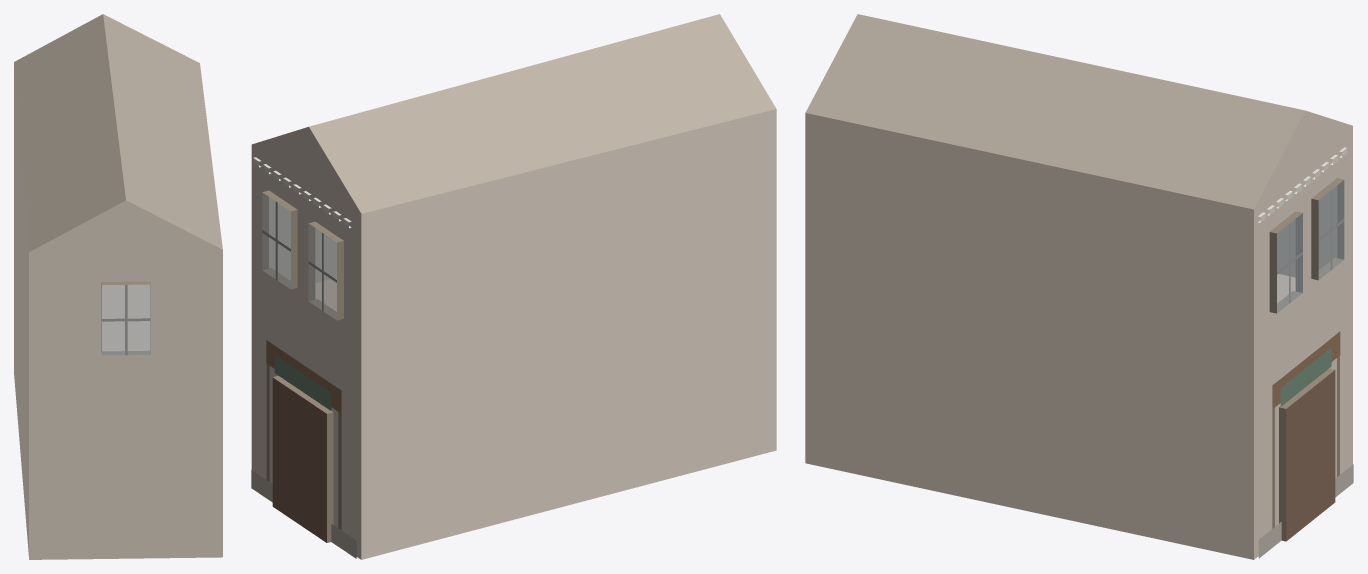
3 renders of one model, left to right at view 1: azimuth 30°, elevation 25°; view 2: azimuth 150°, elevation 25°; view 3: azimuth 270°, elevation 25°, orthographic. The views are drawn at different scales.
Parts seen in each view (by area): view 1: N-46; view 2: N-46; view 3: N-46.
Boxes of the visible parts, x1=… form: N-46: x1=14, y1=14, x2=222, y2=559; N-46: x1=251, y1=14, x2=776, y2=559; N-46: x1=805, y1=14, x2=1353, y2=559.
Bounding box in the file's own units: 7.66 × 8.15 × 9.92.
